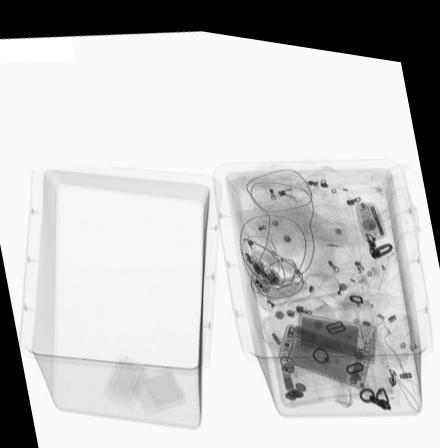Powerbank: (296, 303, 379, 352)
